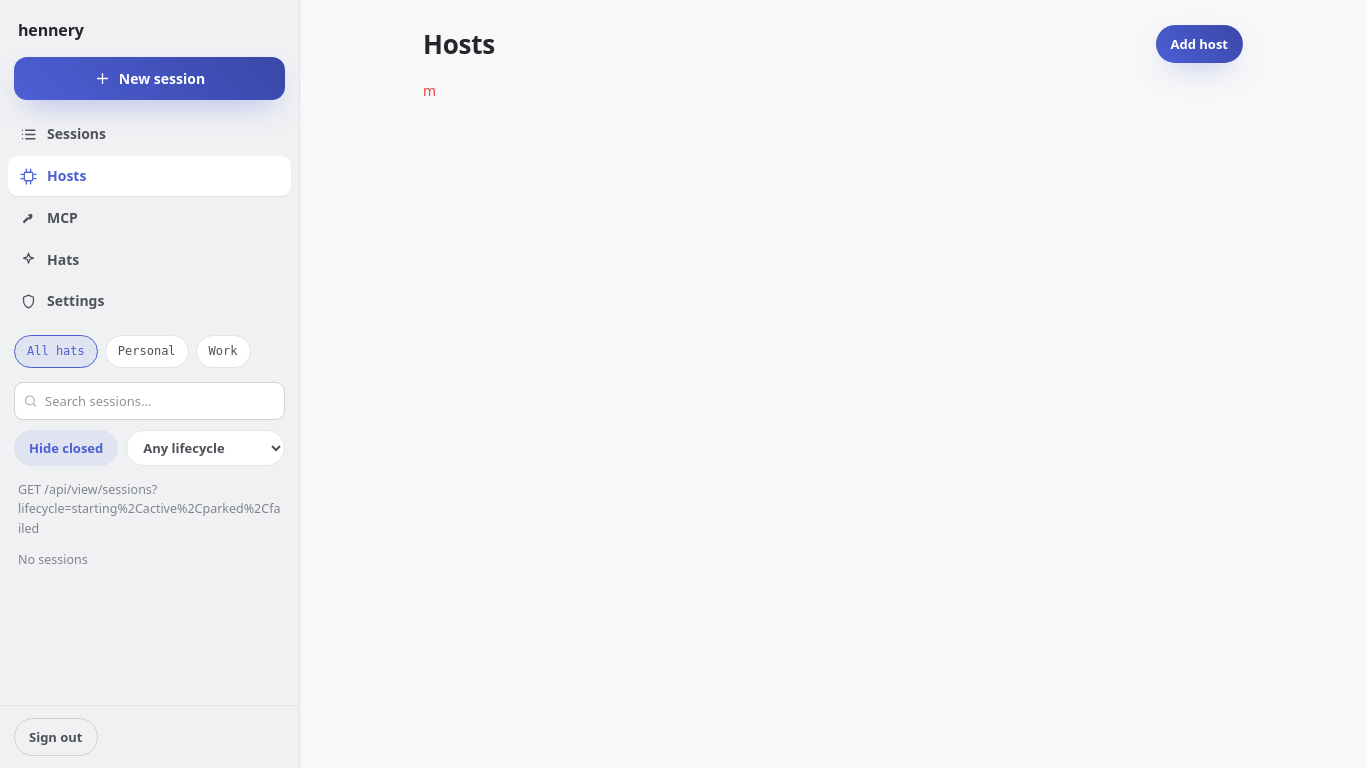
Test: adding a host › tells a new host from those before it even when the list never loaded
Click the button "Add host".
click(1199, 44)  # box 1156,25 -> 1243,63
Wait 3100 ms
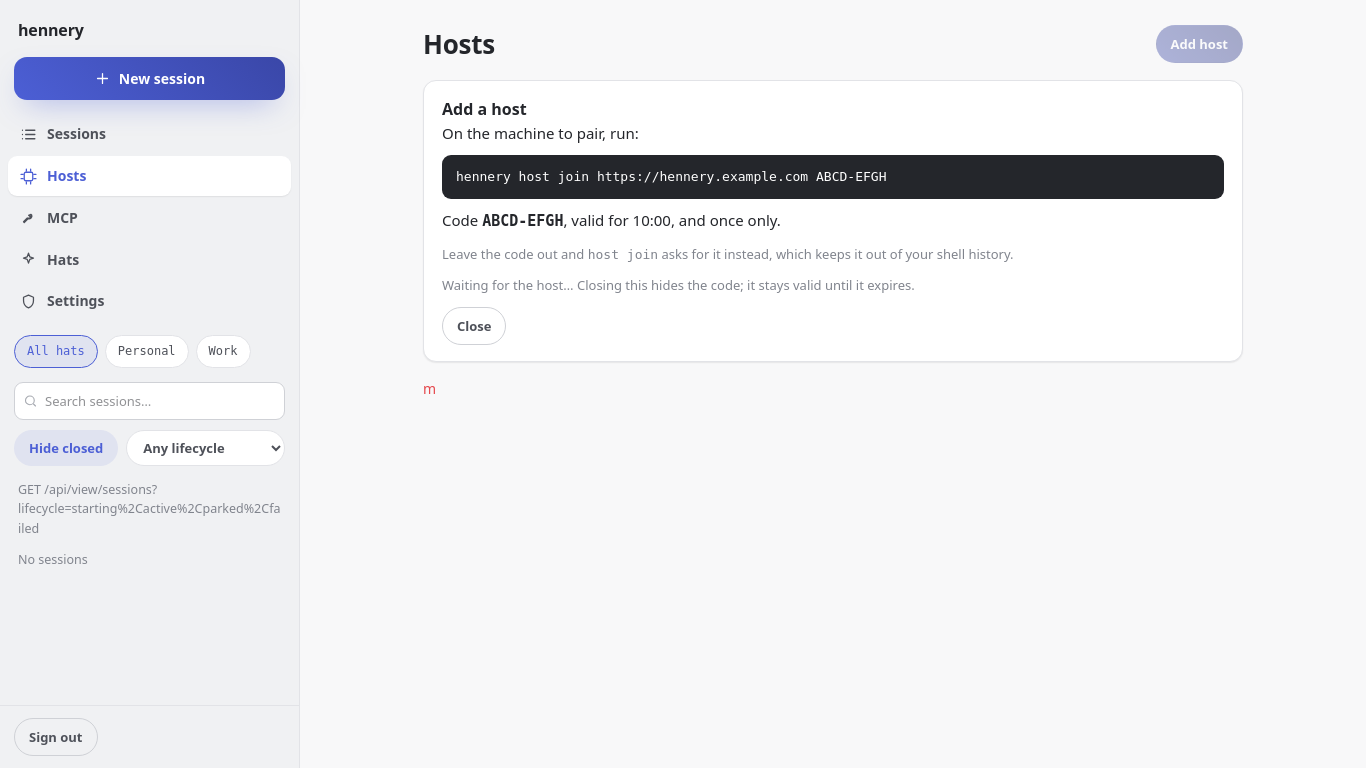
Expected: the element named "Pairing command" is shown, 442,155 -> 1224,199
Expected: the element named "Pairing command" shows "ABCD-EFGH", 456,169 -> 886,184
